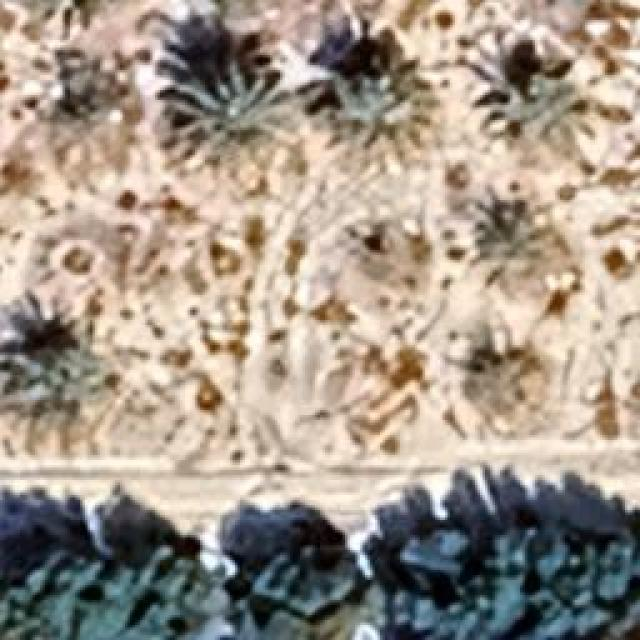PalmTree: (20, 48, 145, 182), (157, 62, 295, 182), (320, 62, 445, 176), (8, 312, 114, 412), (491, 44, 589, 148), (542, 542, 638, 638), (332, 584, 466, 638), (466, 344, 549, 424), (470, 195, 552, 260), (12, 0, 120, 40)
